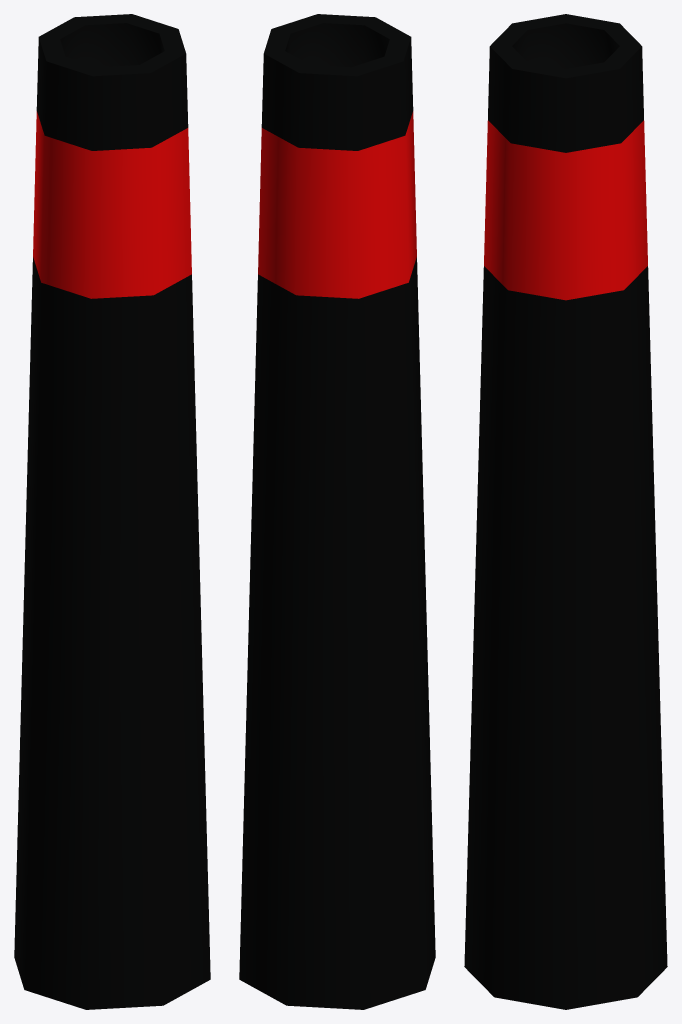
File: chimney-basic.glb
The picture shows the model from 3 angles, left to right: view 1: azimuth 30°, elevation 25°; view 2: azimuth 150°, elevation 25°; view 3: azimuth 270°, elevation 25°; orthographic projection.
Parts seen in each view (by area): view 1: chimney-basic; view 2: chimney-basic; view 3: chimney-basic.
Part boxes in pixels (left/top/right/bottom): chimney-basic: left=14, top=14, right=210, bottom=1009; chimney-basic: left=239, top=14, right=435, bottom=1009; chimney-basic: left=464, top=14, right=667, bottom=1009.
Size of the model in its own units: 0.1998 by 1 by 0.1998.
1 material, 1 textured.
